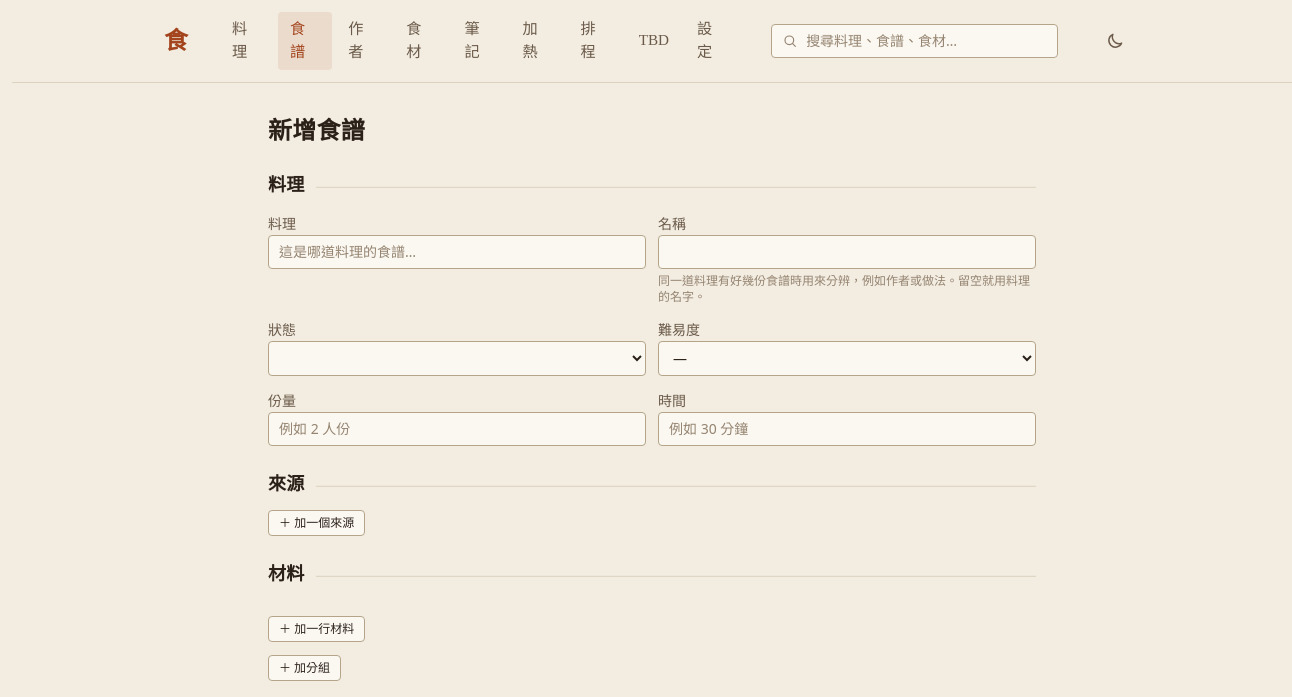
Test case: RecipeForm › refuses to save an author that was typed but never picked
The width and height of the screenshot is (1292, 697).
Type "湯" into the dropdown labelled "料理" at coordinates (457, 252), box [268,235,646,269]
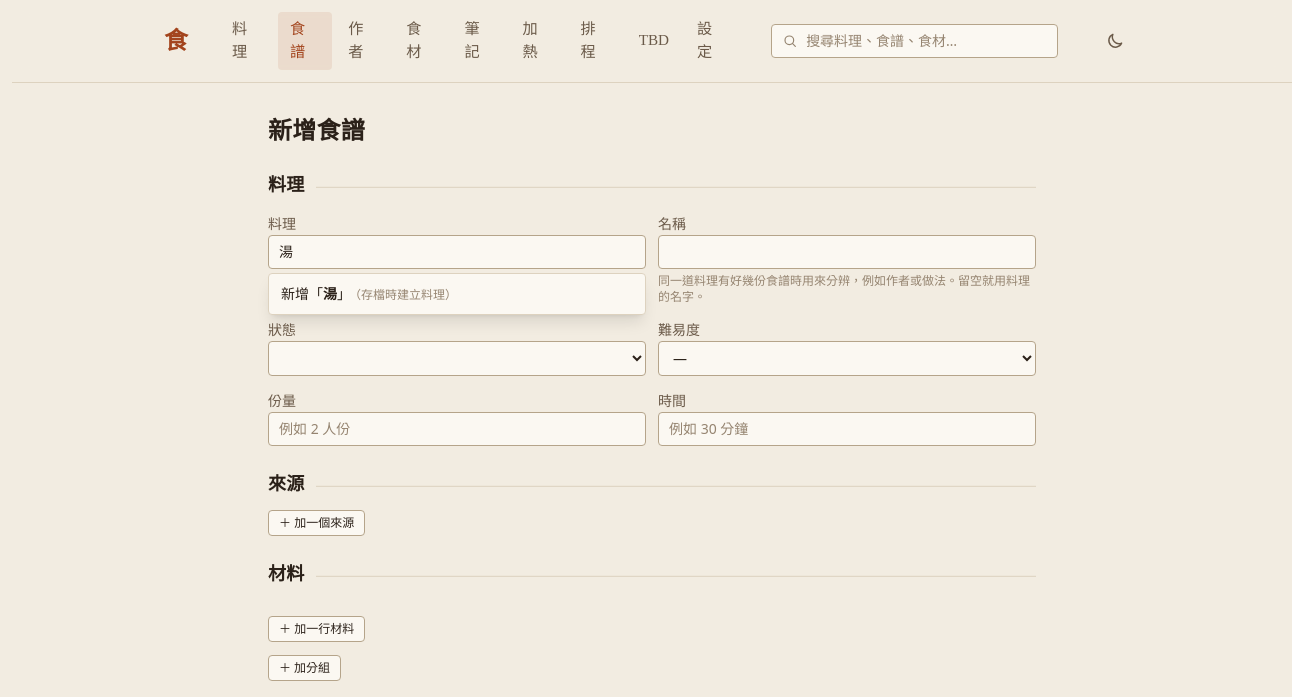
Click the option "新增「湯」（存檔時建立料理）" at coordinates (369, 293), box [281,284,457,303]
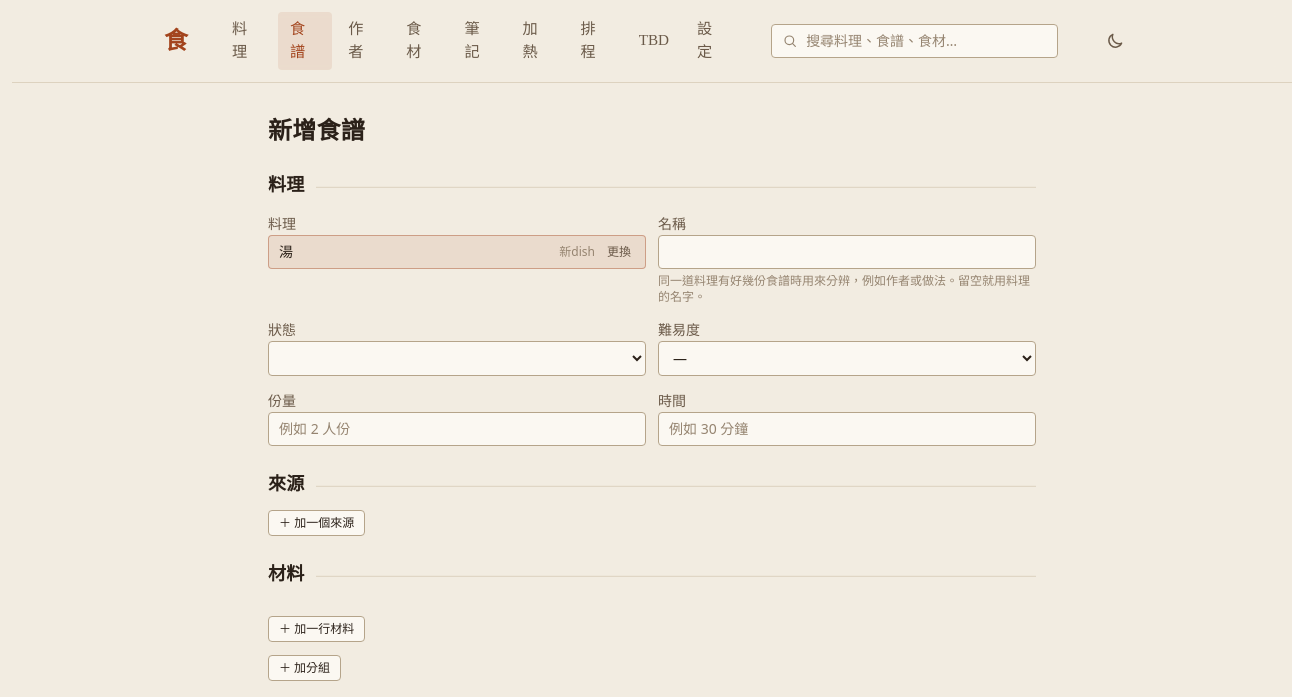
Click the button "＋ 加一個來源" at coordinates (317, 523), box [268,510,365,536]
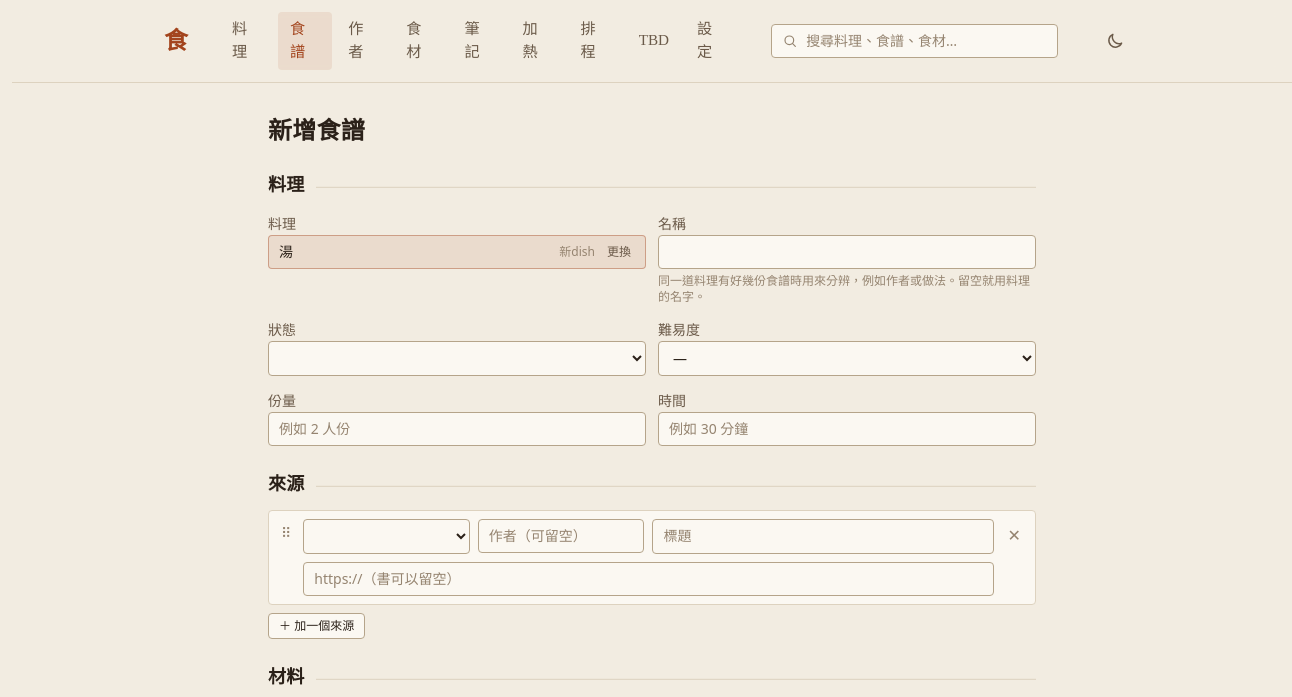
Type "詹姆士" into the dropdown named "作者 1" at coordinates (561, 536), box [478,519,644,553]
(page scrolled)
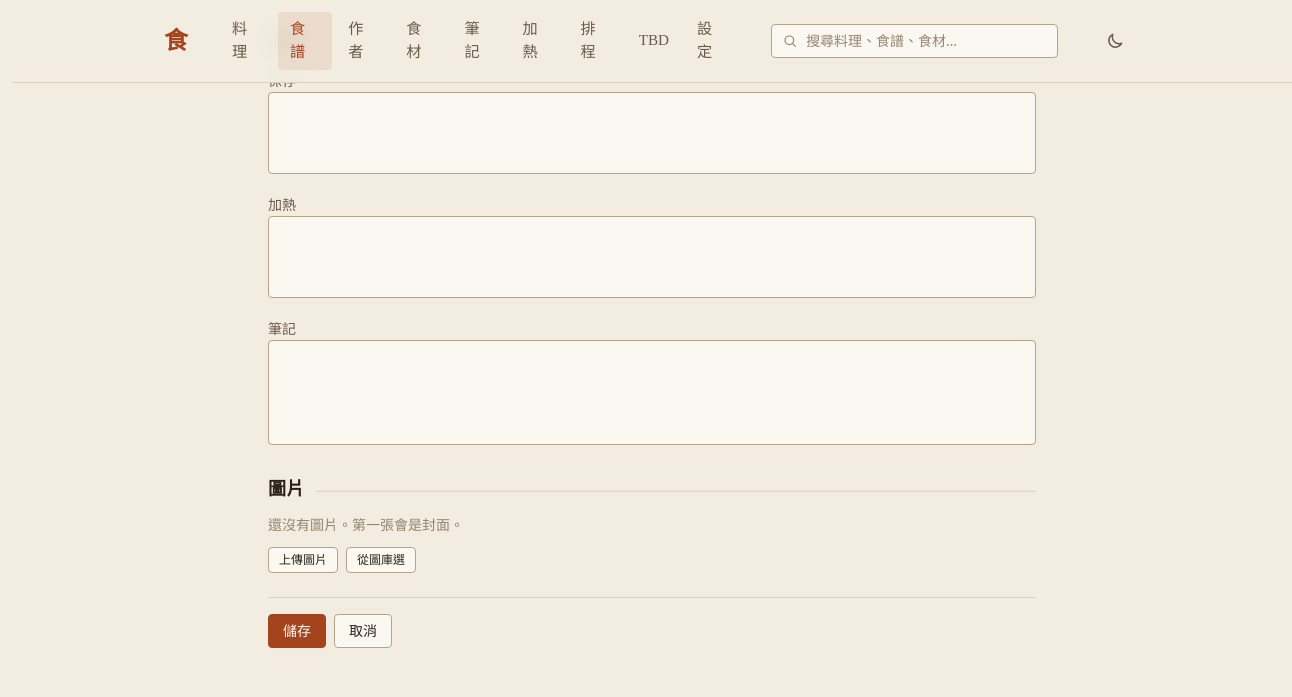
Click the button "儲存" at coordinates (297, 631), box [268,614,326,648]
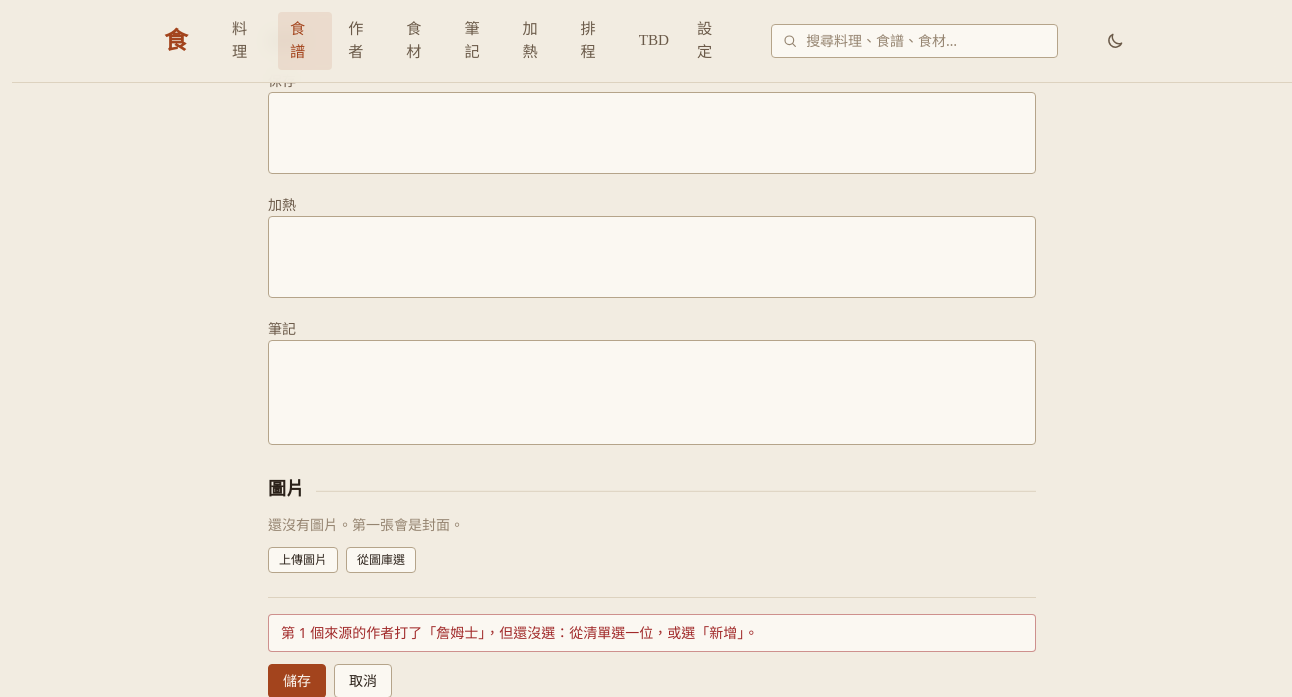
Check: the message reads "第 1 個來源的作者打了「詹姆士」，但還沒選：從清單選一位，或選「新增」。", box [281,623,758,642]
